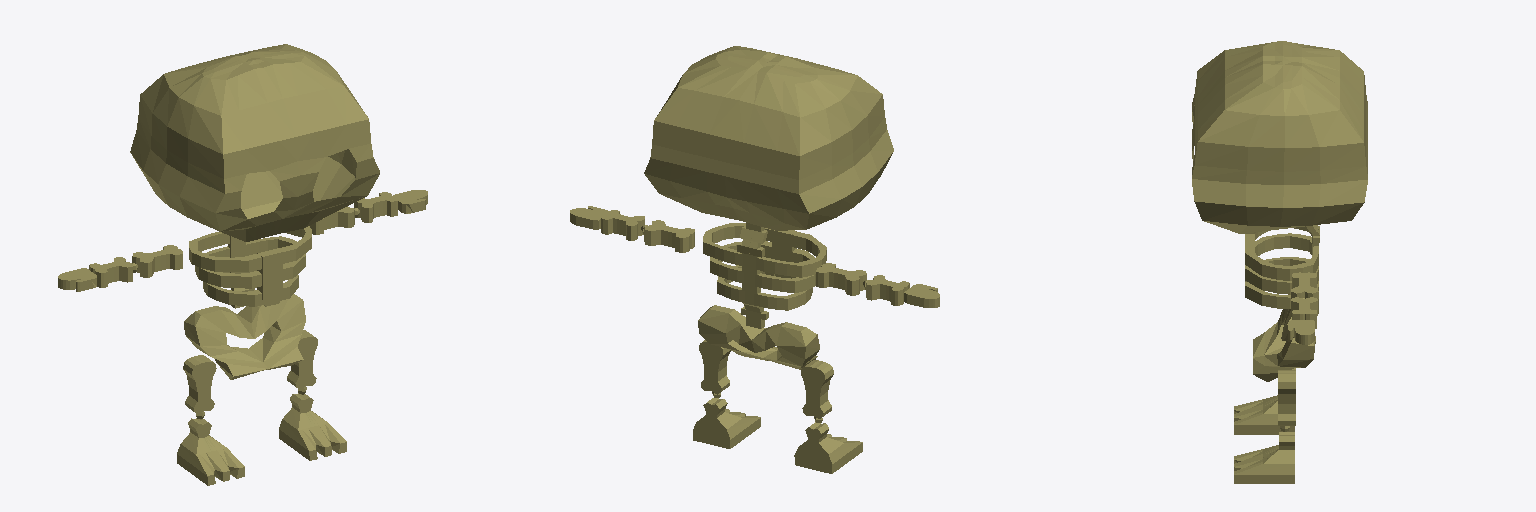
The model's file is calaveraCabezaPequena.obj.
The picture shows the model from 3 angles: view 1: azimuth 30°, elevation 25°; view 2: azimuth 150°, elevation 25°; view 3: azimuth 270°, elevation 25°; orthographic projection.
Parts seen in each view (by area): view 1: Skeleton_Cube.003; view 2: Skeleton_Cube.003; view 3: Skeleton_Cube.003.
Part boxes in pixels (x1,y1,x2,y2): Skeleton_Cube.003: (58,44,427,485); Skeleton_Cube.003: (570,46,939,473); Skeleton_Cube.003: (1192,41,1367,483).
Size of the model in its own units: 5.66 by 5.74 by 2.35.